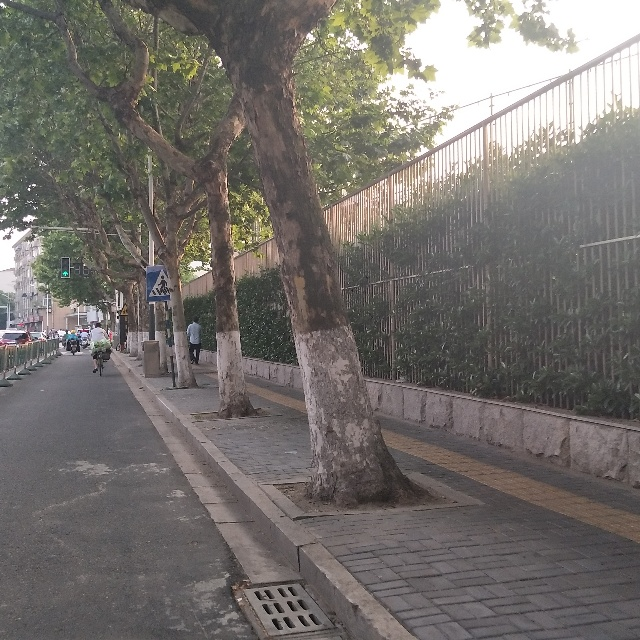left: (145, 264, 175, 302)
